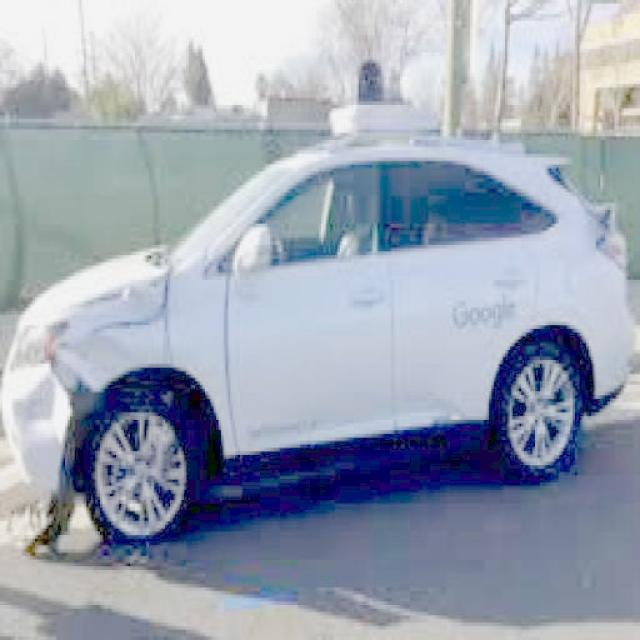car damage: (3, 251, 171, 560)
